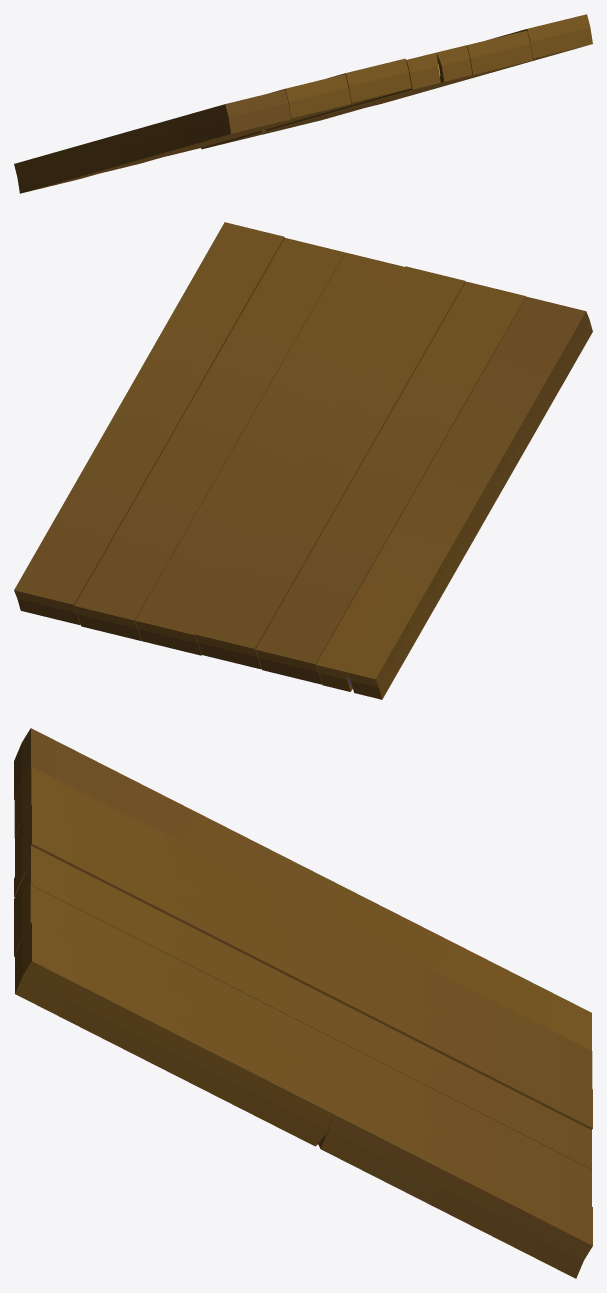
File: WoodenRoof.fbx
The picture shows the model from 3 angles, top to bottom: view 1: azimuth 30°, elevation 25°; view 2: azimuth 150°, elevation 25°; view 3: azimuth 270°, elevation 25°; orthographic projection. The views are drawn at different scales.
Parts seen in each view (by area): view 1: Door_02.008; view 2: Door_02.008; view 3: Door_02.008.
Part boxes in pixels (bbox=[...]): Door_02.008: bbox=[14, 14, 592, 193]; Door_02.008: bbox=[14, 222, 592, 699]; Door_02.008: bbox=[14, 728, 592, 1278].
Bounding box in the file's own units: 170 × 108 × 177.
